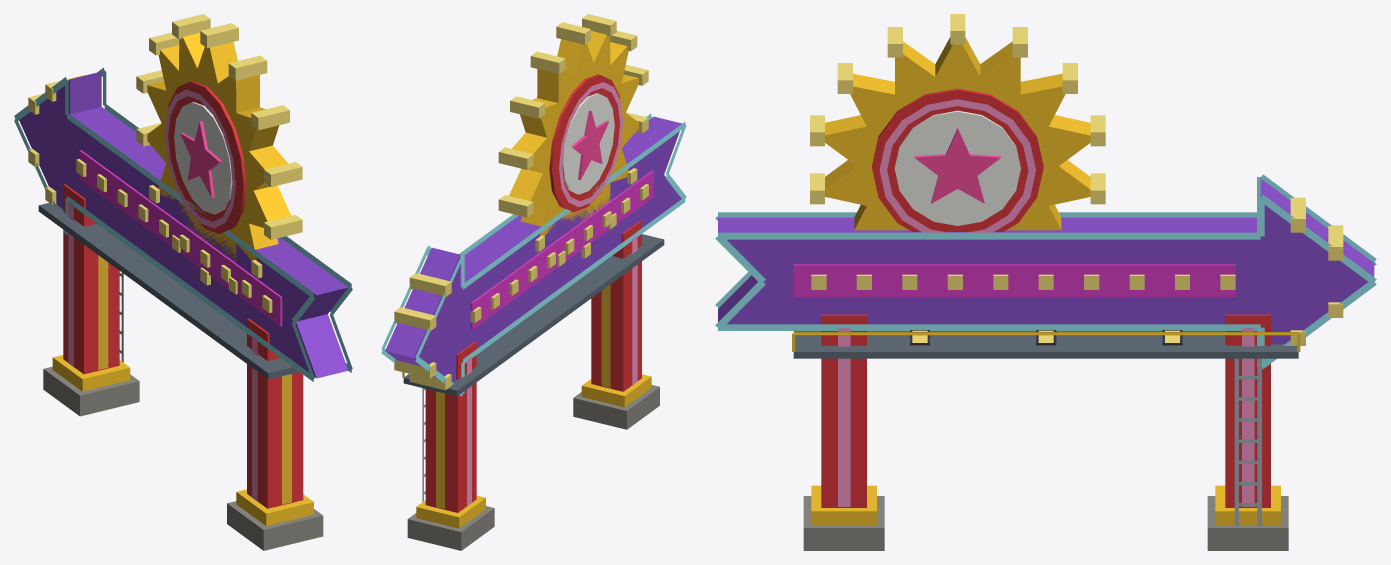
File: big_sign.glb
3 views of the same model, side by side, from view 1: azimuth 30°, elevation 25°; view 2: azimuth 150°, elevation 25°; view 3: azimuth 270°, elevation 25° (orthographic). The views are drawn at different scales.
Visible parts, largest first — view 1: Body; view 2: Body; view 3: Body.
Part boxes in pixels (x1,y1,x2,y2): Body: [14, 14, 352, 550]; Body: [381, 14, 686, 550]; Body: [715, 14, 1376, 550].
Size of the model in its own units: 0.307 by 2.23 by 2.62.
